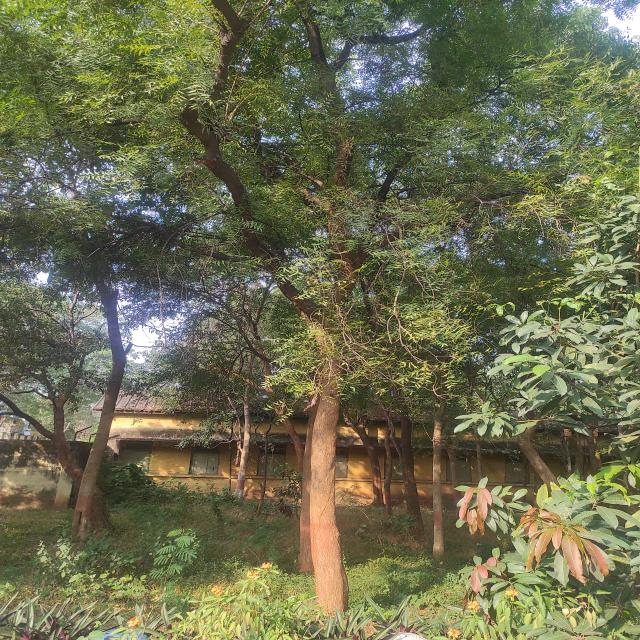Mango Tree: (461, 247, 640, 600)
Neem Tree: (12, 1, 462, 412)
